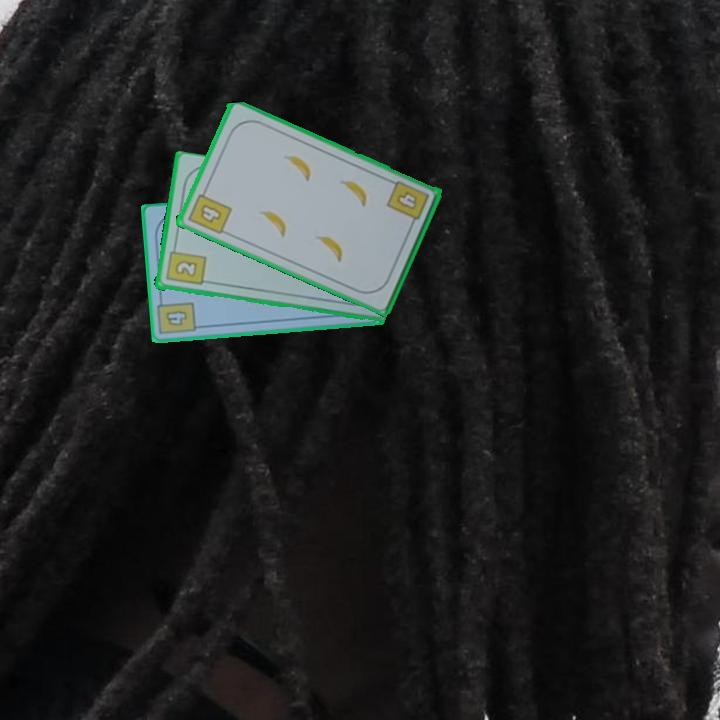2b: (162, 242, 208, 288)
4b: (184, 184, 234, 237), (383, 177, 432, 230), (155, 294, 199, 335)
